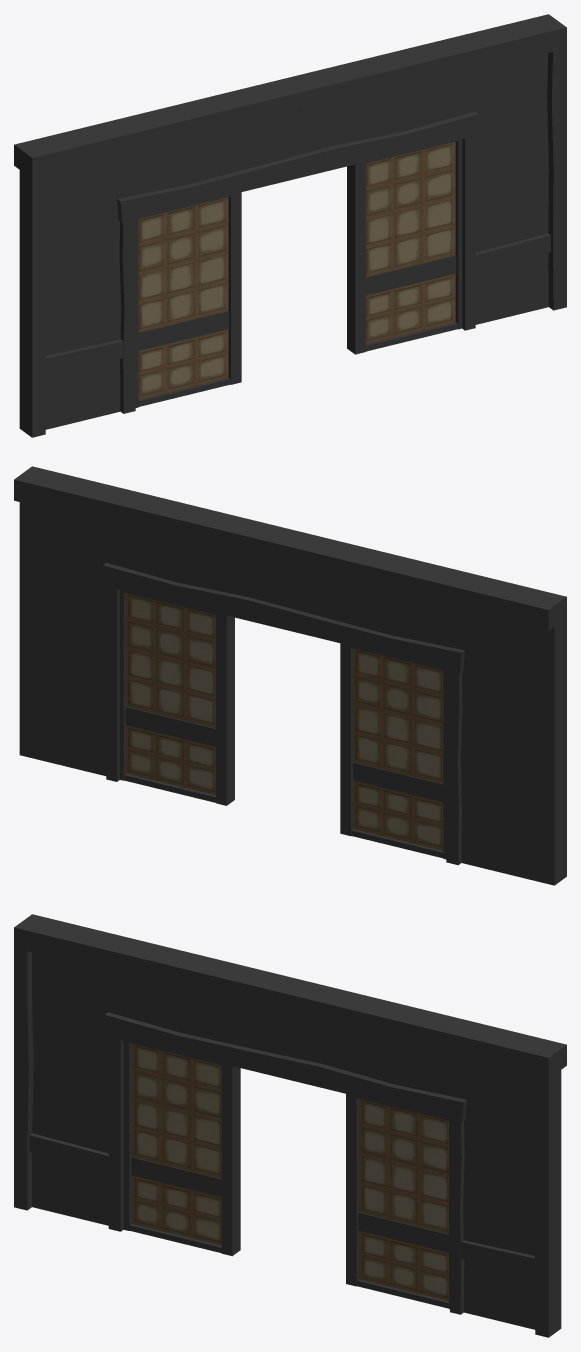
File: SM_wall_door_02.FBX
3 renders of one model, top to bottom at view 1: azimuth 30°, elevation 25°; view 2: azimuth 150°, elevation 25°; view 3: azimuth 330°, elevation 25°, orthographic.
Visible parts, largest first — view 1: SM_wall_door_02_LOD0; view 2: SM_wall_door_02_LOD0; view 3: SM_wall_door_02_LOD0.
Boxes of the visible parts, x1,y1,x2,y2 form: SM_wall_door_02_LOD0: (14, 14, 566, 437); SM_wall_door_02_LOD0: (14, 466, 566, 885); SM_wall_door_02_LOD0: (14, 914, 566, 1337).
Bounding box in the file's own units: 800 × 47.26 × 400.
